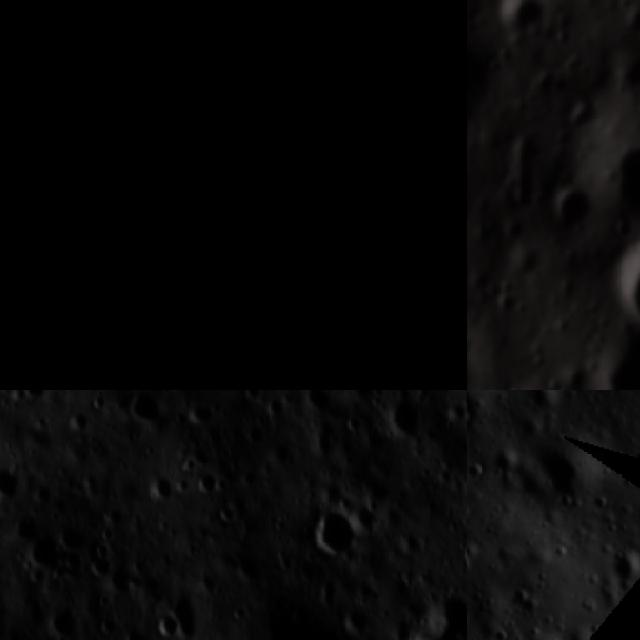crater: (312, 59, 454, 197), (159, 221, 265, 326), (285, 249, 376, 338), (43, 5, 123, 82), (525, 429, 597, 507), (392, 572, 467, 640), (299, 506, 362, 566), (208, 350, 295, 390), (602, 134, 640, 225), (368, 390, 427, 447), (467, 43, 494, 143), (496, 0, 553, 47), (16, 531, 66, 579), (592, 344, 640, 390), (551, 190, 595, 240), (80, 536, 124, 584), (122, 390, 168, 432), (0, 460, 31, 515), (603, 548, 640, 594), (43, 601, 84, 640), (140, 472, 177, 508), (145, 609, 182, 640), (185, 400, 220, 431), (192, 468, 226, 499), (61, 407, 92, 435), (467, 397, 479, 440), (18, 390, 49, 406), (455, 539, 467, 571)
